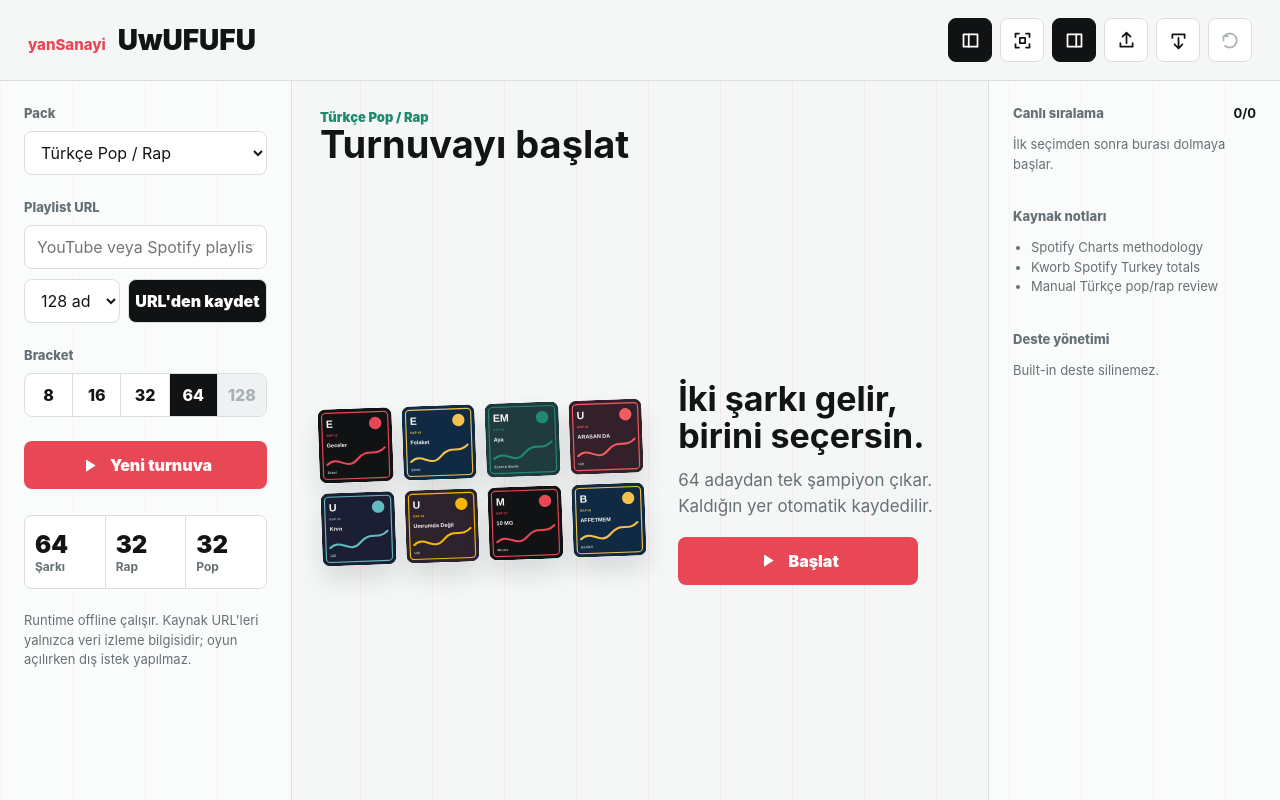
Test: App › converts a pasted YouTube playlist URL through the local API
In the field labelled "Playlist URL": {"x": 146, "y": 247} [24,225,267,269], type "https://www.youtube.com/playlist?list=PL1234567890"
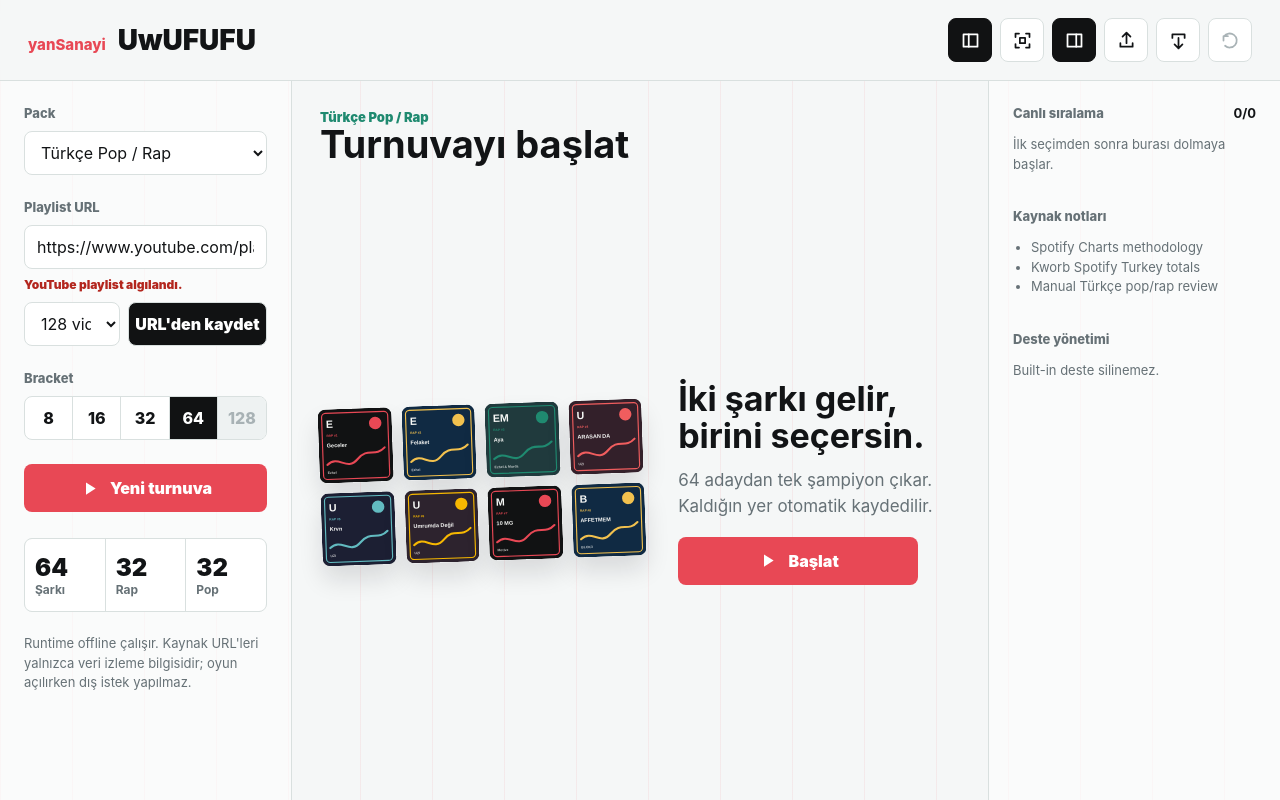
expect the text "YouTube playlist algılandı." is shown: met, box [24,277,182,292]
Click the button "URL'den kaydet": {"x": 198, "y": 324} [128,302,267,346]
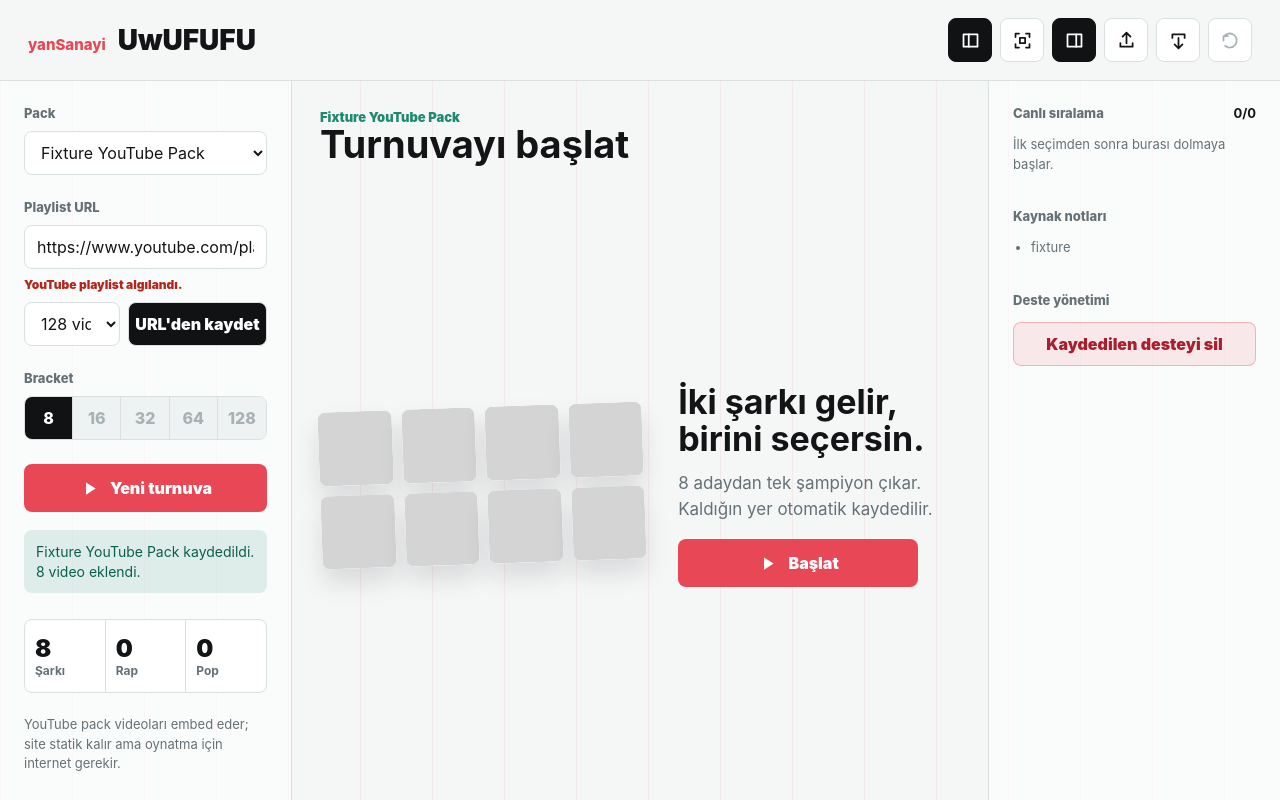
expect the text "Fixture YouTube Pack kaydedildi. 8 video eklendi." is shown: met, box [24,530,267,593]
expect the dropdown showing "Fixture YouTube Pack" is shown: met, box [24,131,267,175]
